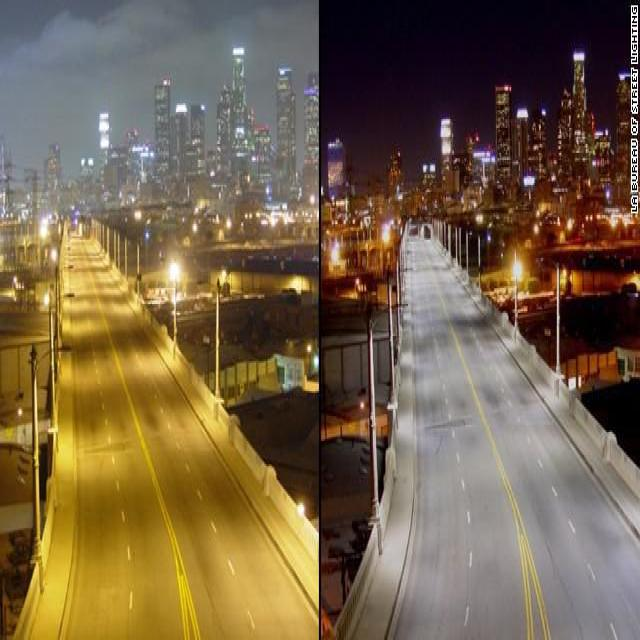other: (31, 199, 80, 291), (166, 252, 210, 308), (498, 248, 532, 308), (374, 220, 396, 258), (327, 237, 341, 273)
